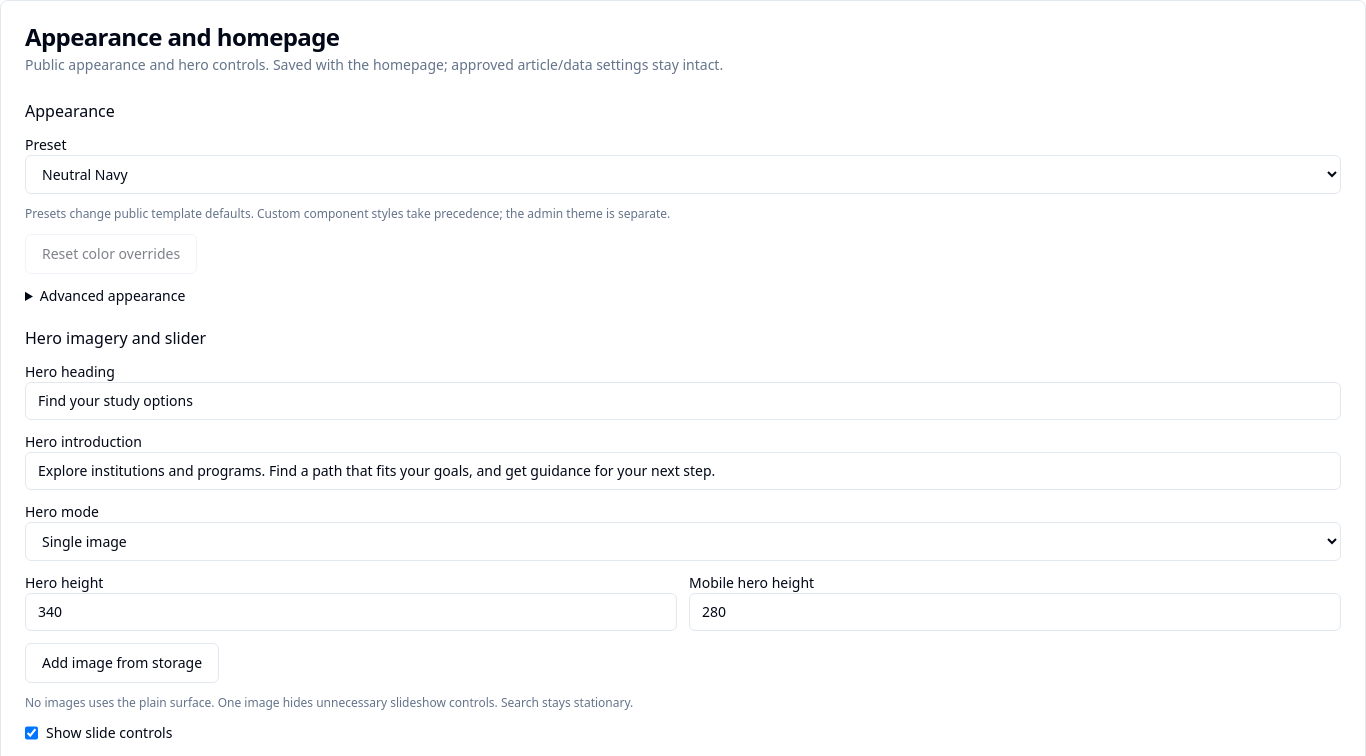
Test: template settings guarded save › retains edits and refuses blind replay after a concurrent-change conflict
The width and height of the screenshot is (1366, 756).
Select "Neutral Charcoal" in the dropdown labelled "Preset" at (683, 174), box [25,155,1341,194]
(page scrolled)
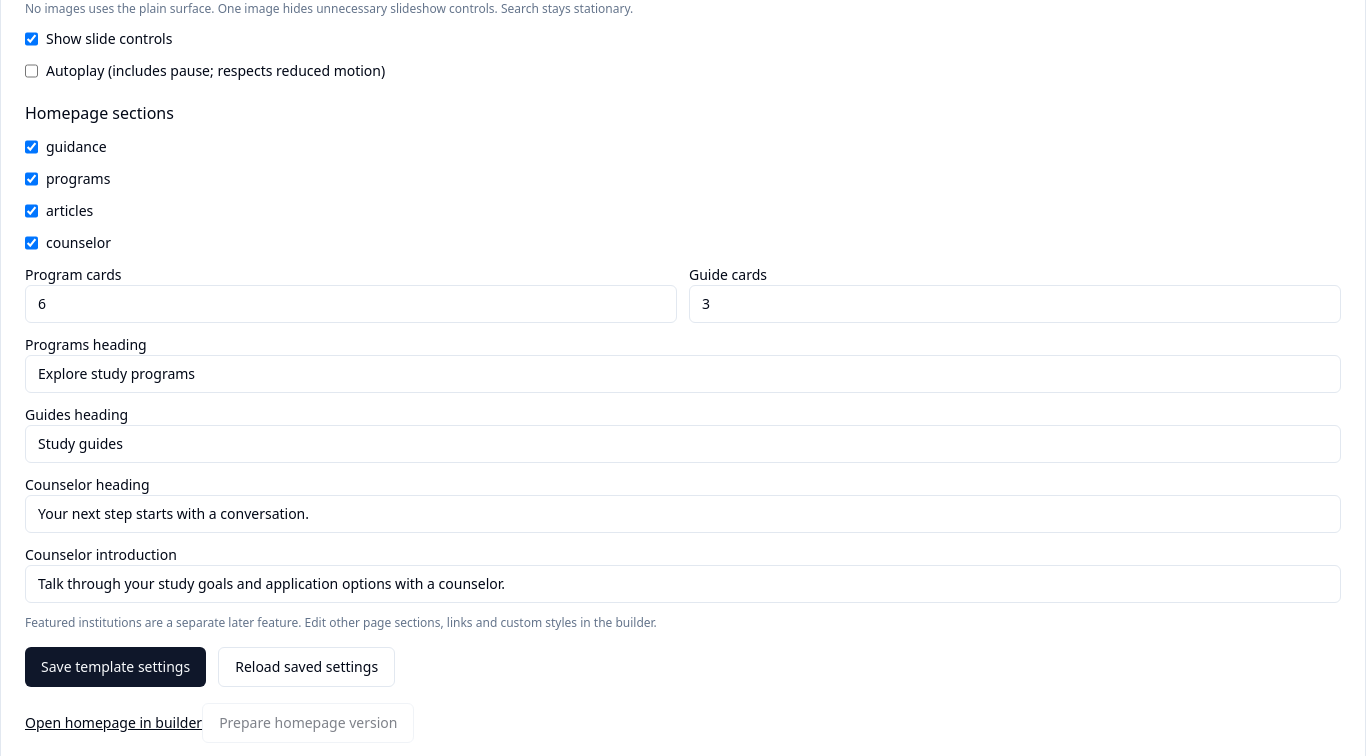
Click the button "Save template settings" at (116, 667), box [25,647,206,687]
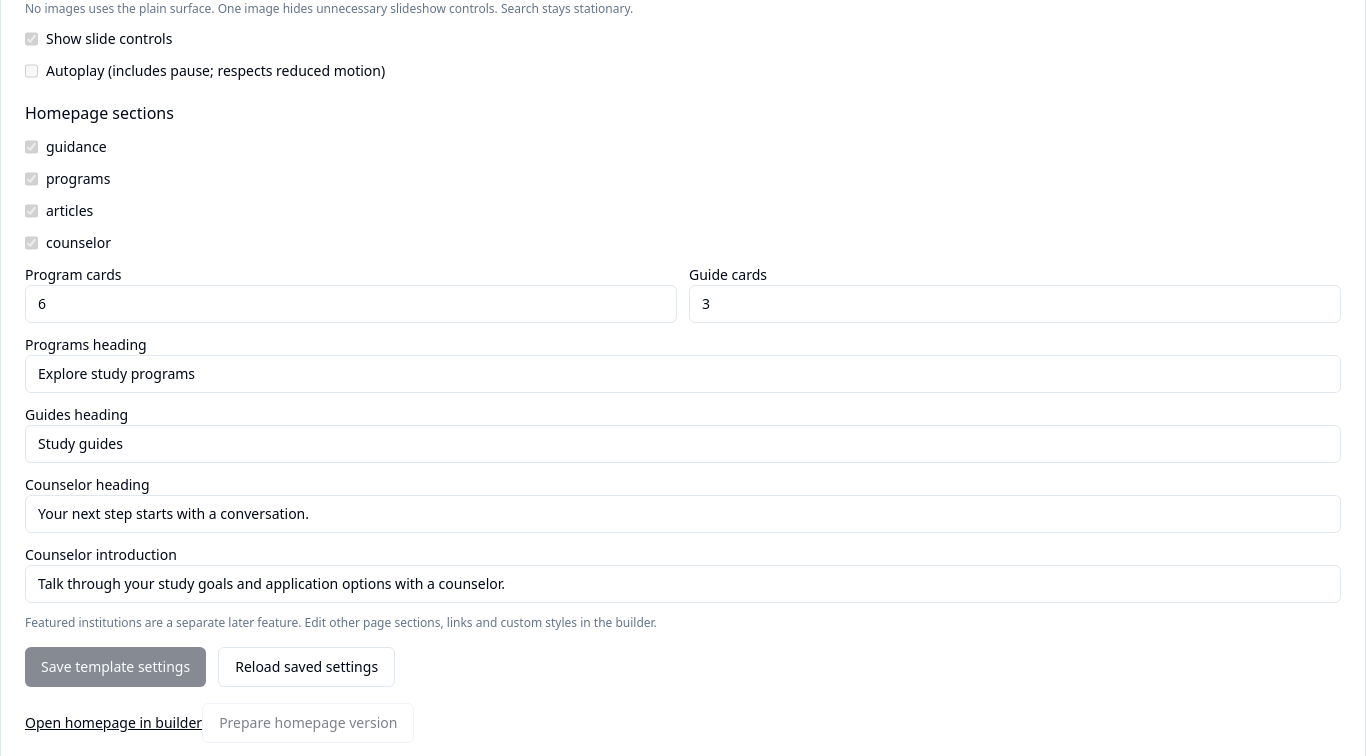
Check: the button "Save template settings" is disabled, box [25,647,206,687]
